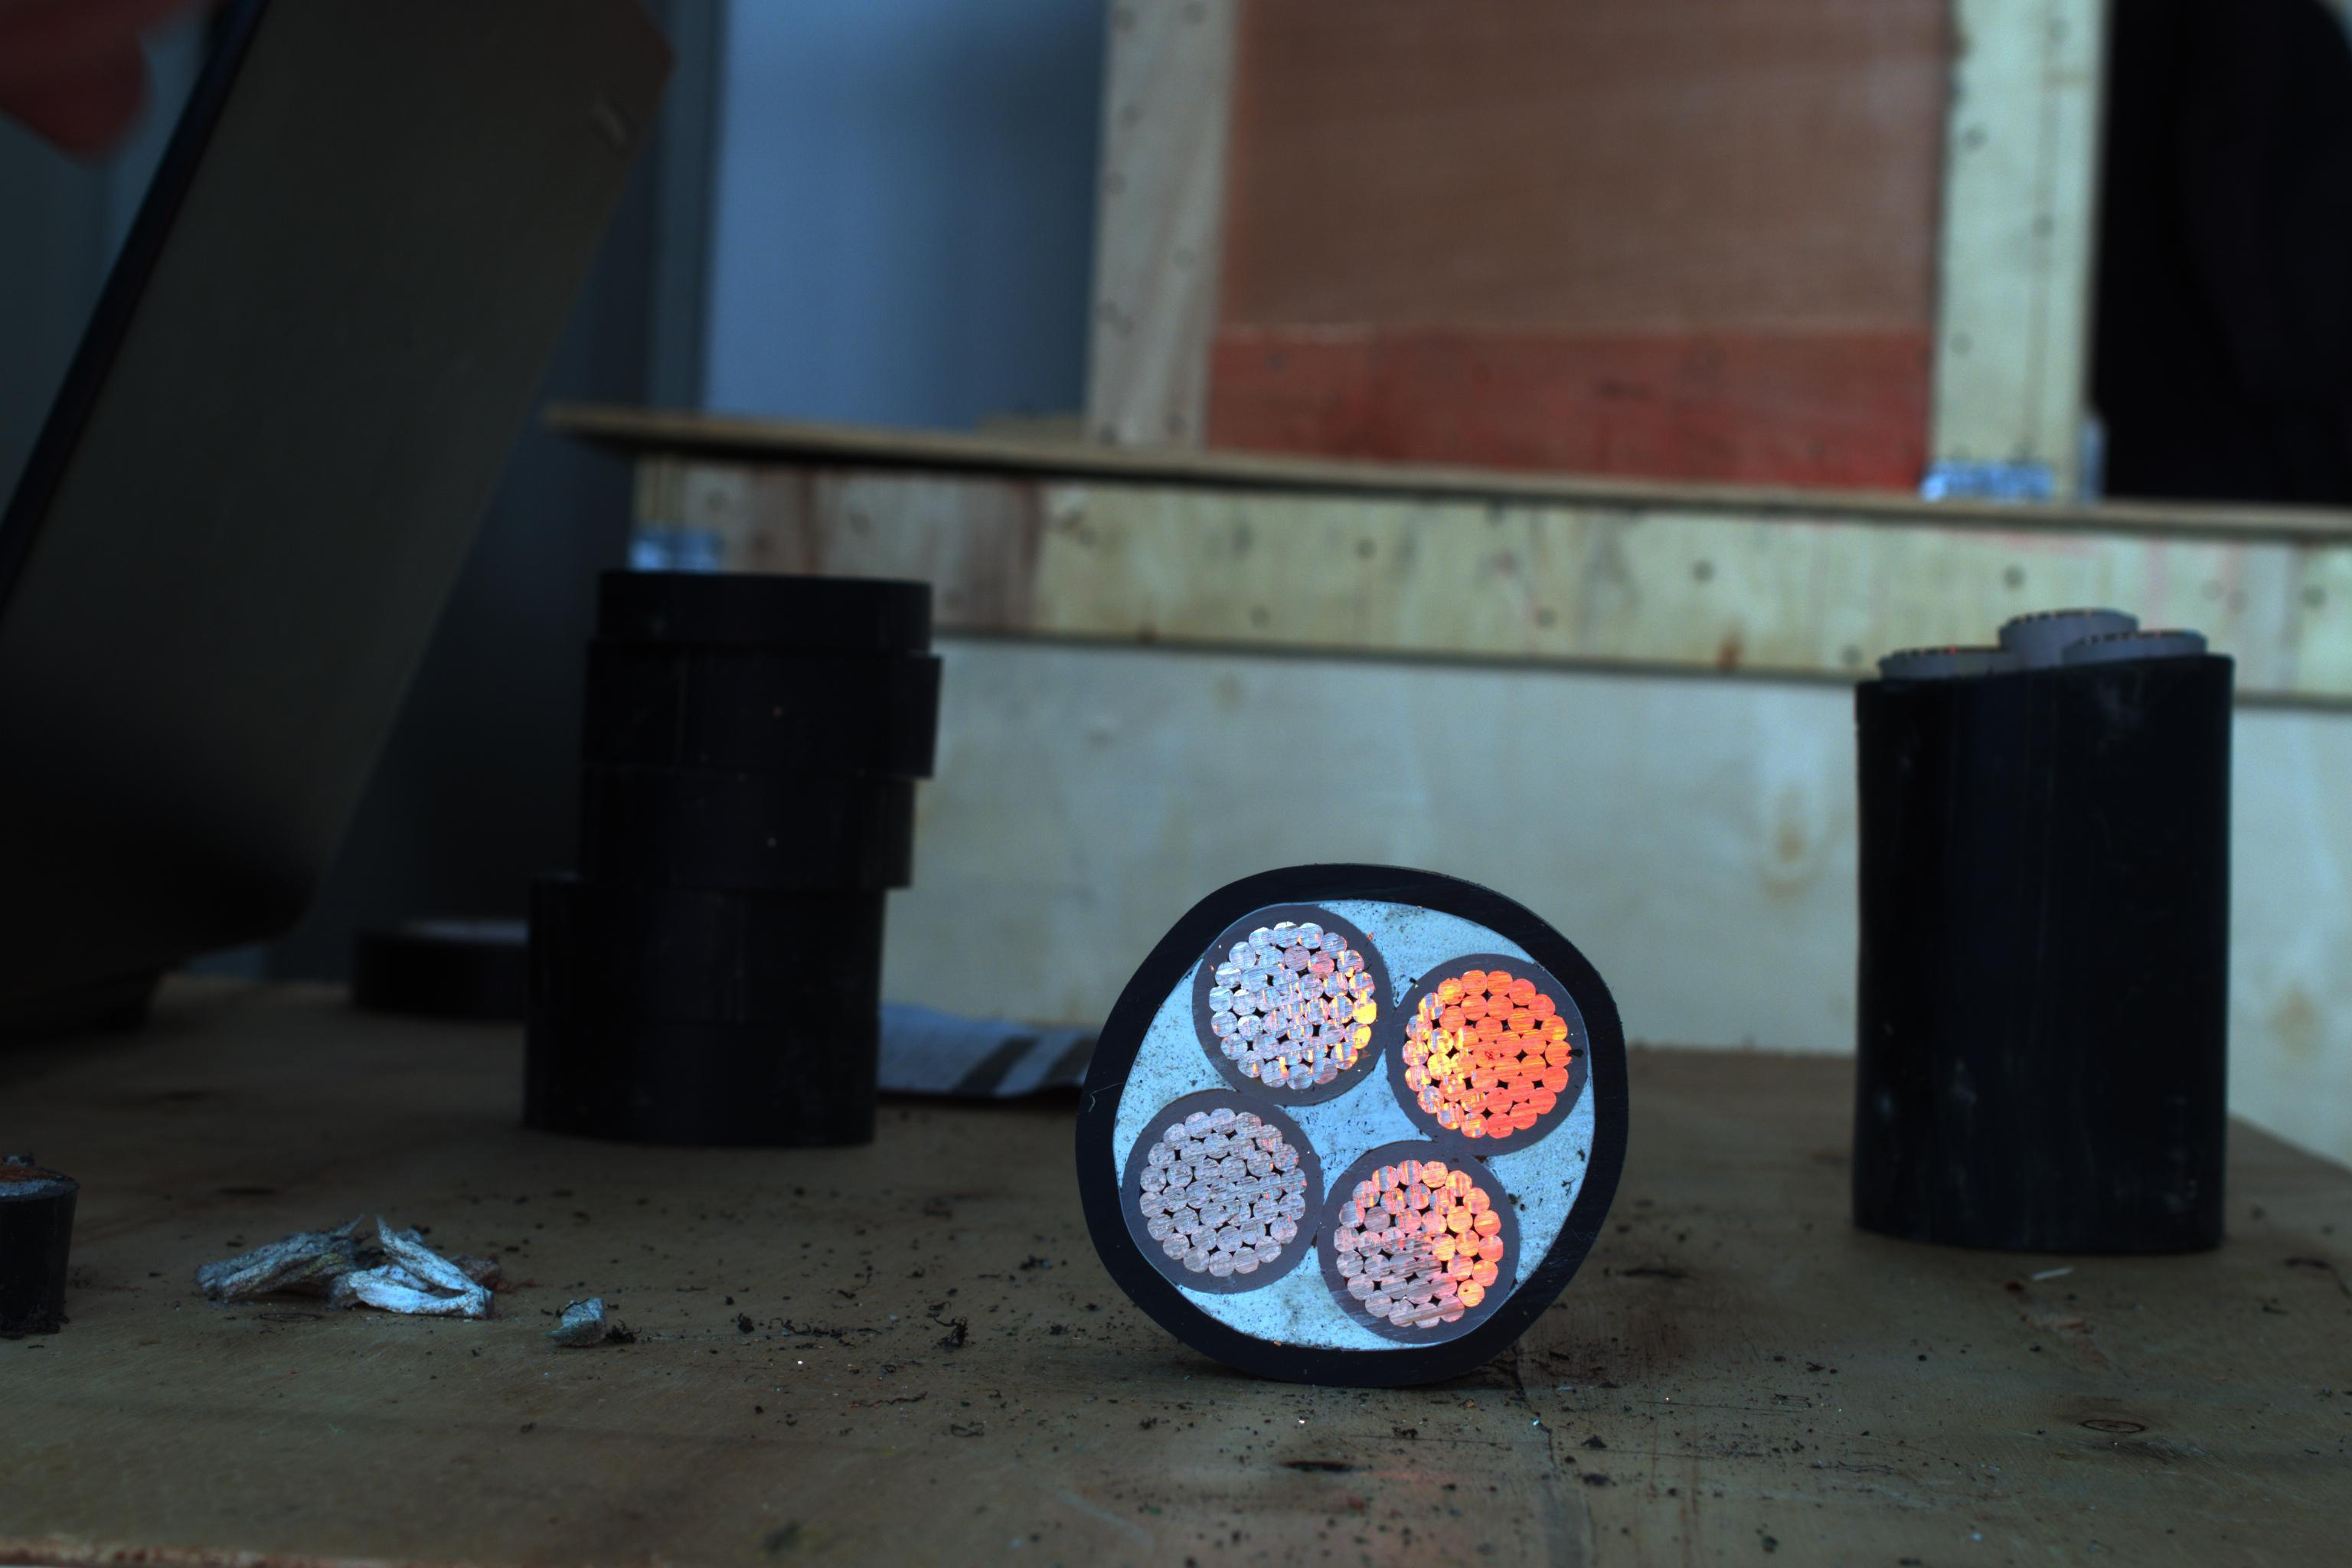YJV_0.6_1kV_4x240: (1087, 875, 1605, 1377)
